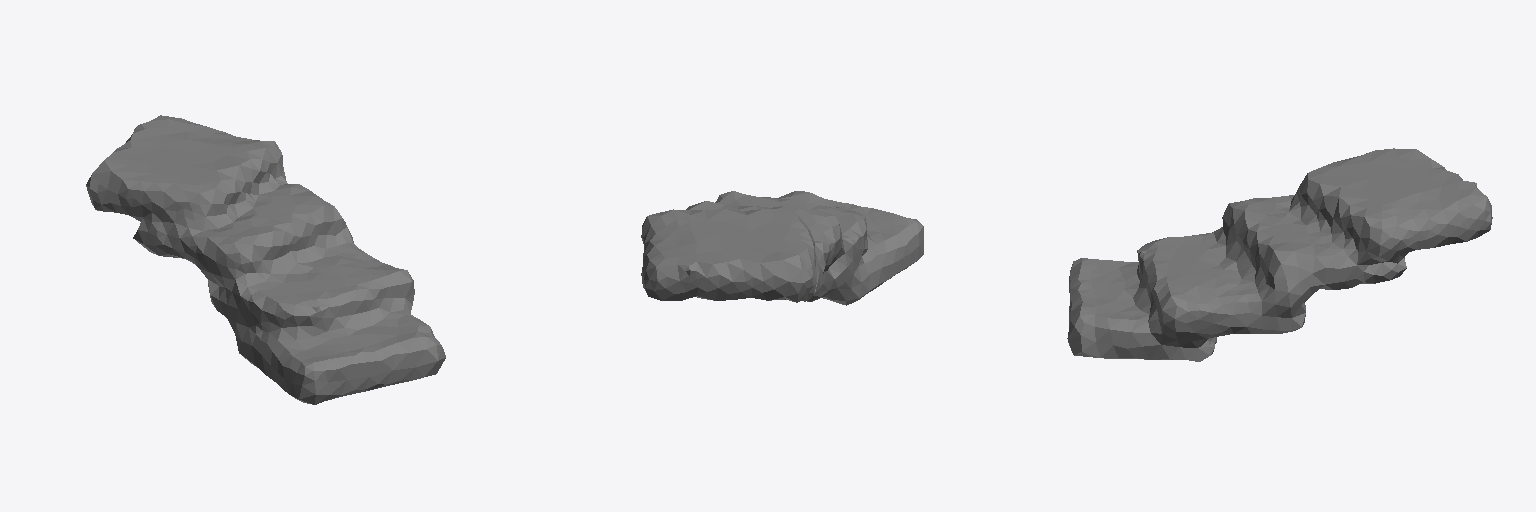
File: StonePlatform_B.obj
3 views of the same model, side by side, from view 1: azimuth 30°, elevation 25°; view 2: azimuth 150°, elevation 25°; view 3: azimuth 270°, elevation 25° (orthographic).
Parts seen in each view (by area): view 1: Stone_B; view 2: Stone_B; view 3: Stone_B.
Boxes of the visible parts, x1,y1,x2,y2 form: Stone_B: [86, 115, 445, 404]; Stone_B: [641, 191, 923, 305]; Stone_B: [1067, 148, 1492, 361].
Size of the model in its own units: 14.84 by 8.95 by 26.